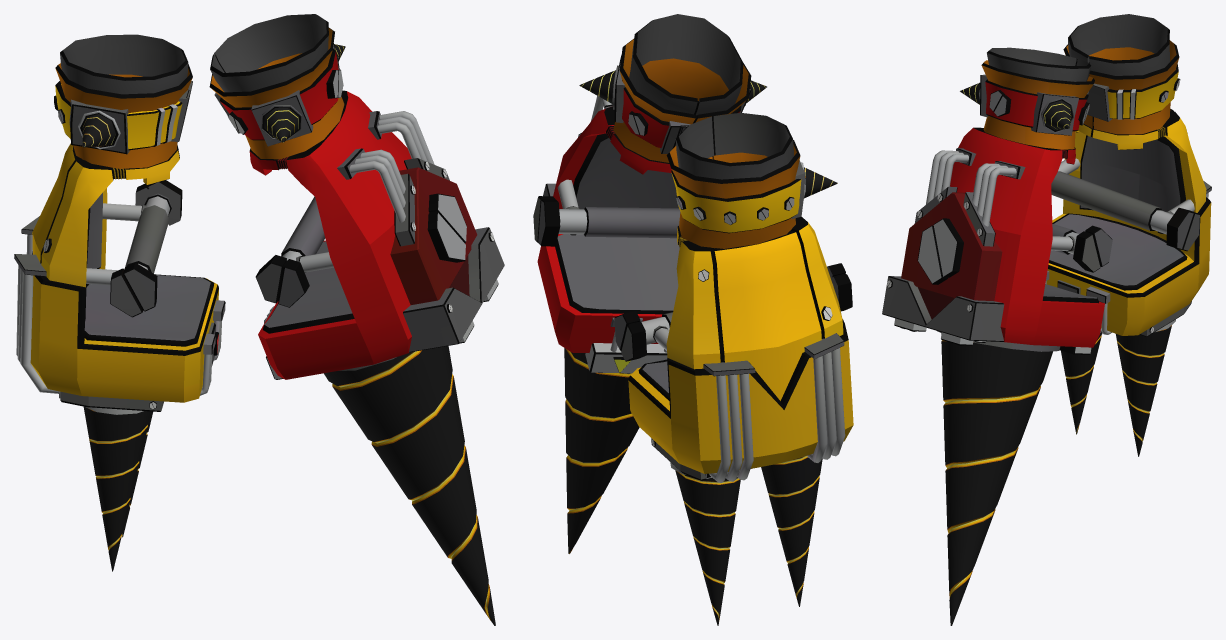
Rendered from Gloves.fbx.
3 views of the same model, side by side, from view 1: azimuth 30°, elevation 25°; view 2: azimuth 150°, elevation 25°; view 3: azimuth 270°, elevation 25° (orthographic). The views are drawn at different scales.
Visible parts, largest first — view 1: Gloves; view 2: Gloves; view 3: Gloves.
Part boxes in pixels (box(x1,y1,x2,y2)): Gloves: box(14, 14, 504, 625); Gloves: box(533, 14, 853, 625); Gloves: box(882, 14, 1211, 625).
Bounding box in the file's own units: 37.67 × 54.78 × 31.9.
